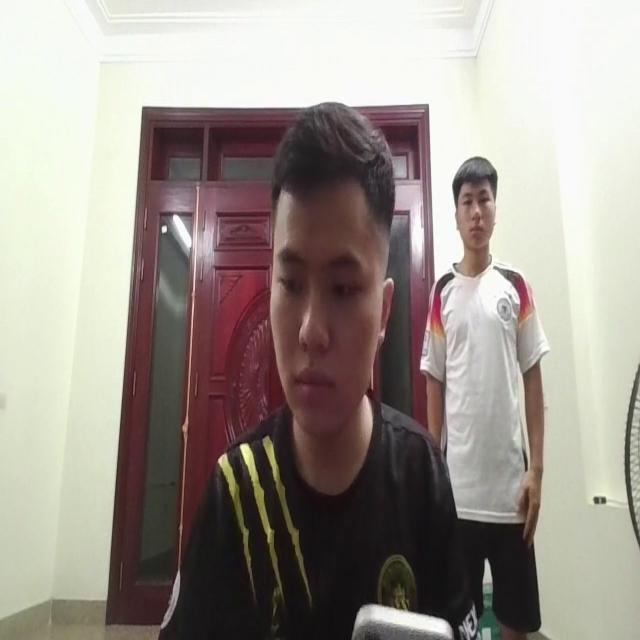extra_person: (425, 132, 547, 638)
student: (154, 90, 462, 640)
